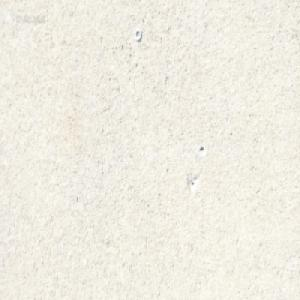Washer: (134, 28, 141, 41)
